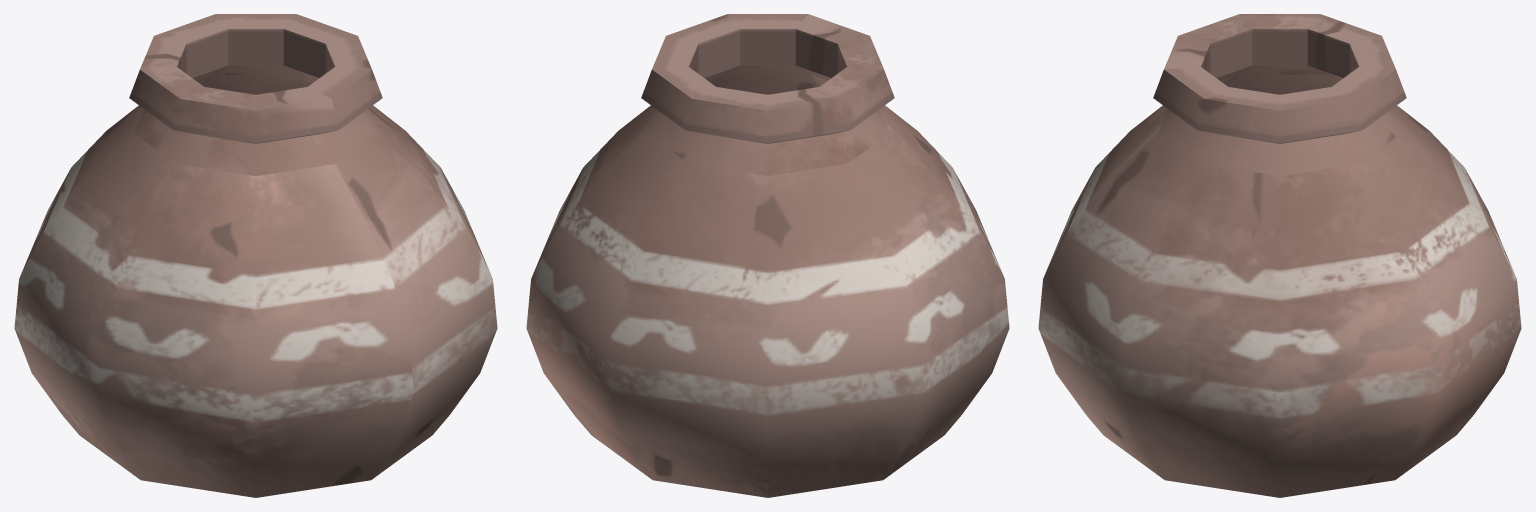
The model's file is Vase_A.FBX.
3 renders of one model, left to right at view 1: azimuth 30°, elevation 25°; view 2: azimuth 150°, elevation 25°; view 3: azimuth 270°, elevation 25°, orthographic.
Visible parts, largest first — view 1: Z3_Vase003; view 2: Z3_Vase003; view 3: Z3_Vase003.
Part boxes in pixels (x1,y1,x2,y2): Z3_Vase003: [14, 14, 497, 497]; Z3_Vase003: [526, 14, 1009, 497]; Z3_Vase003: [1038, 14, 1521, 497].
Bounding box in the file's own units: 140 × 118 × 142.
